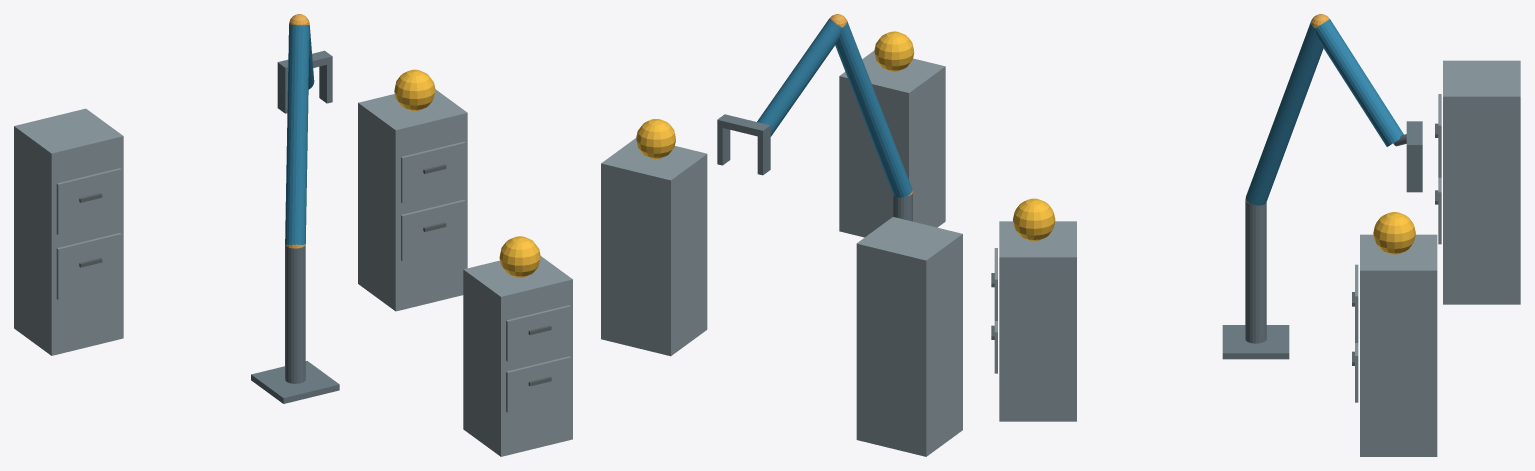
3 renders of one model, left to right at view 1: azimuth 30°, elevation 25°; view 2: azimuth 150°, elevation 25°; view 3: azimuth 270°, elevation 25°, orthographic. The views are drawn at different scales.
Parts seen in each view (by area): view 1: cabinet_3 body, cabinet_2 body, cabinet_1 body, moving link 1, cabinet_3 drawer front, cabinet_3 drawer front.001, cabinet_2 drawer front, cabinet_2 drawer front.001, fixed post, cabinet_1 drawer front.001, cabinet_1 drawer front, pedestal (+2 smaller); view 2: cabinet_3 body, cabinet_2 body, cabinet_1 body, moving link 1, moving link 2, released ball_1, ball ball_2, gripper bridge, gripper finger -1, gripper finger 1, fixed post; view 3: cabinet_3 body, cabinet_2 body, cabinet_1 body, moving link 1, fixed post, moving link 2, pedestal, released ball_1, ball ball_2, gripper finger 1, gripper bridge.
Boxes of the visible parts, x1,y1,x2,y2 form: cabinet_3 body: [14, 108, 123, 355]; cabinet_2 body: [358, 89, 467, 311]; cabinet_1 body: [463, 256, 572, 456]; moving link 1: [285, 24, 309, 244]; cabinet_3 drawer front: [56, 233, 121, 299]; cabinet_3 drawer front.001: [56, 168, 121, 234]; cabinet_2 drawer front: [401, 199, 465, 261]; cabinet_2 drawer front.001: [401, 141, 465, 203]; fixed post: [285, 244, 305, 383]; cabinet_1 drawer front.001: [506, 305, 570, 361]; cabinet_1 drawer front: [506, 356, 570, 412]; pedestal: [251, 361, 339, 403]; cabinet_3 body: [856, 217, 962, 456]; cabinet_2 body: [601, 138, 707, 356]; cabinet_1 body: [839, 51, 945, 237]; moving link 1: [835, 21, 912, 197]; moving link 2: [757, 18, 841, 136]; released ball_1: [874, 31, 914, 71]; ball ball_2: [636, 119, 675, 158]; gripper bridge: [717, 114, 770, 137]; gripper finger -1: [757, 132, 770, 175]; gripper finger 1: [717, 126, 730, 165]; fixed post: [893, 193, 912, 221]; cabinet_3 body: [1443, 60, 1520, 304]; cabinet_2 body: [1360, 234, 1437, 456]; cabinet_1 body: [999, 221, 1076, 421]; moving link 1: [1245, 22, 1323, 205]; fixed post: [1245, 200, 1266, 343]; moving link 2: [1315, 19, 1403, 146]; pedestal: [1222, 325, 1289, 359]; released ball_1: [1013, 198, 1055, 241]; ball ball_2: [1373, 212, 1415, 254]; gripper finger 1: [1406, 152, 1422, 192]; gripper bridge: [1406, 121, 1422, 152].
Size of the model in its own units: 1.67 by 1.44 by 1.98.
